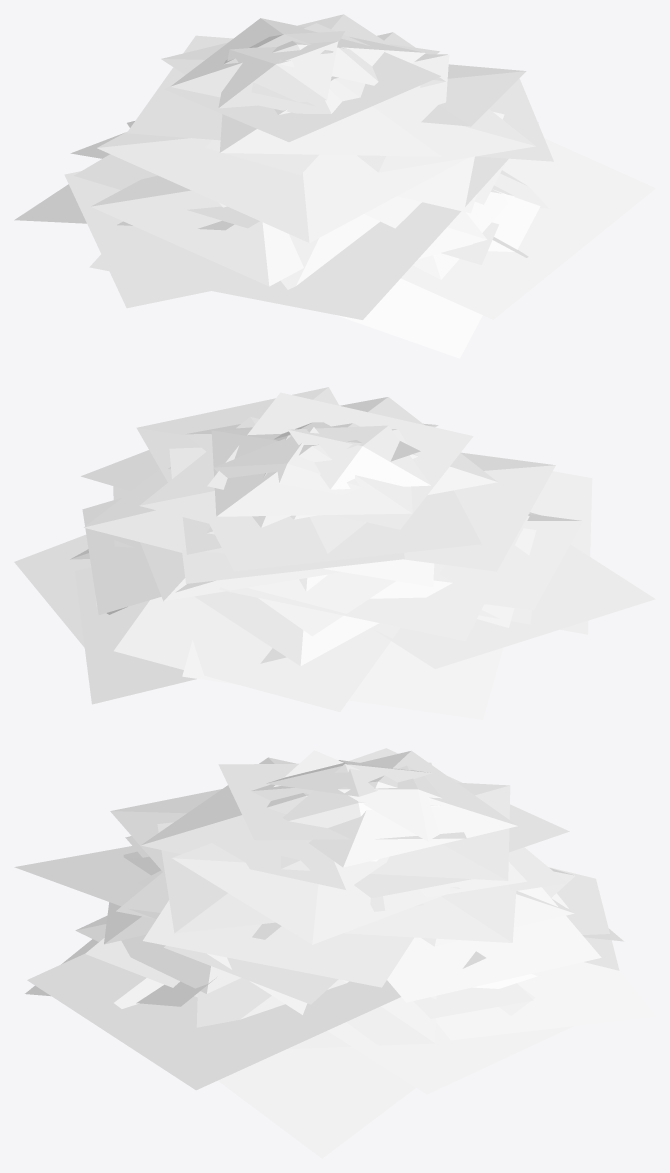
File: scene_luoliante_shu04.FBX
3 views of the same model, one above another, from view 1: azimuth 30°, elevation 25°; view 2: azimuth 150°, elevation 25°; view 3: azimuth 270°, elevation 25° (orthographic). The views are drawn at different scales.
Parts seen in each view (by area): view 1: scene_luoliante_shu04; view 2: scene_luoliante_shu04; view 3: scene_luoliante_shu04.
Part boxes in pixels (bbox=[...]): scene_luoliante_shu04: bbox=[14, 14, 655, 358]; scene_luoliante_shu04: bbox=[14, 387, 655, 719]; scene_luoliante_shu04: bbox=[14, 748, 655, 1158].
Size of the model in its own units: 472 by 193 by 459.
